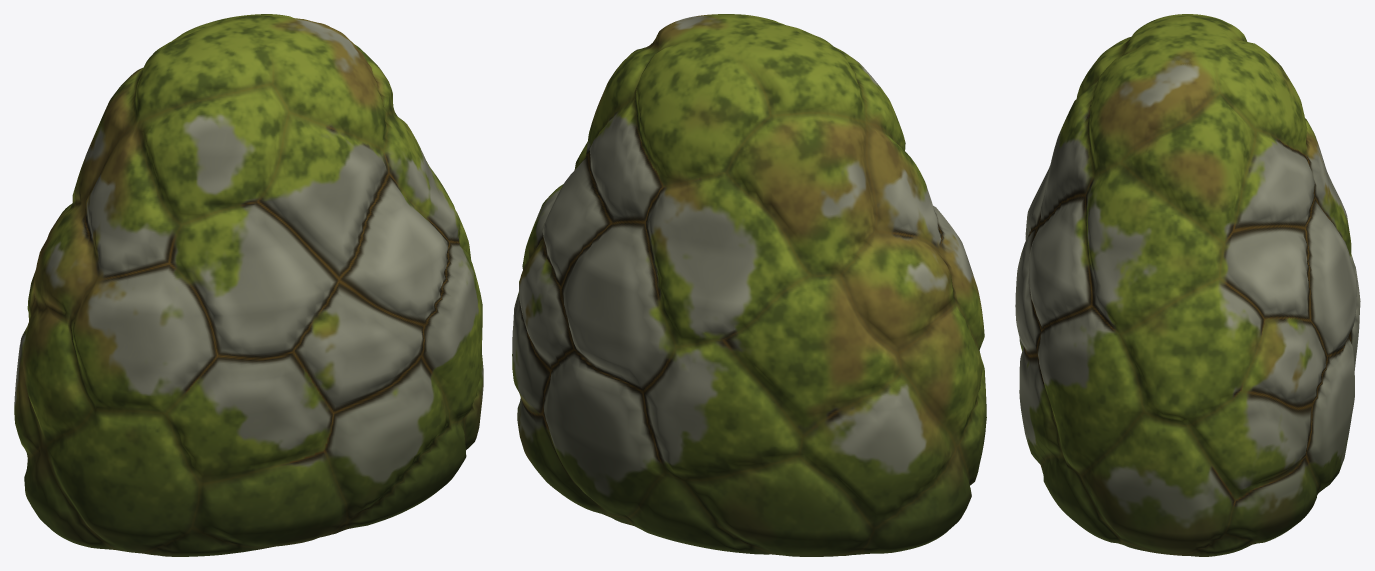
The model's file is 17-boulder.glb.
3 views of the same model, side by side, from view 1: azimuth 30°, elevation 25°; view 2: azimuth 150°, elevation 25°; view 3: azimuth 270°, elevation 25° (orthographic). The views are drawn at different scales.
Visible parts, largest first — view 1: boulder; view 2: boulder; view 3: boulder.
Part boxes in pixels (x1=…): boulder: x1=14, y1=14, x2=483, y2=556; boulder: x1=512, y1=14, x2=986, y2=556; boulder: x1=1015, y1=14, x2=1360, y2=556.
Bounding box in the file's own units: 1.75 × 1.8 × 1.27.
1 material, 1 textured.
